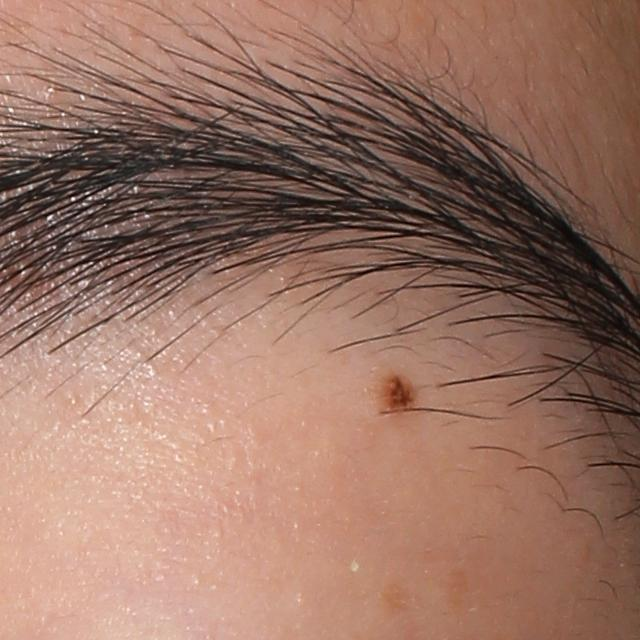melasma: (442, 565, 473, 627), (378, 578, 417, 622)
nevus: (372, 370, 420, 416)
